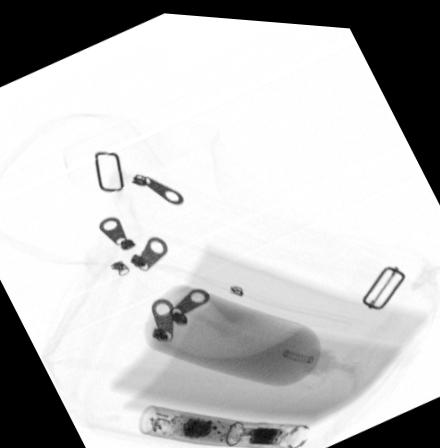Baton: (136, 403, 310, 446)
